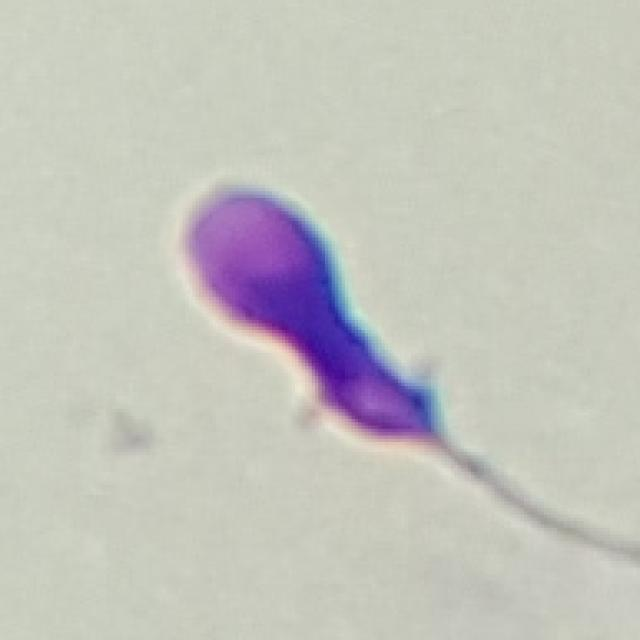abnormal sperm: (142, 184, 640, 554)
